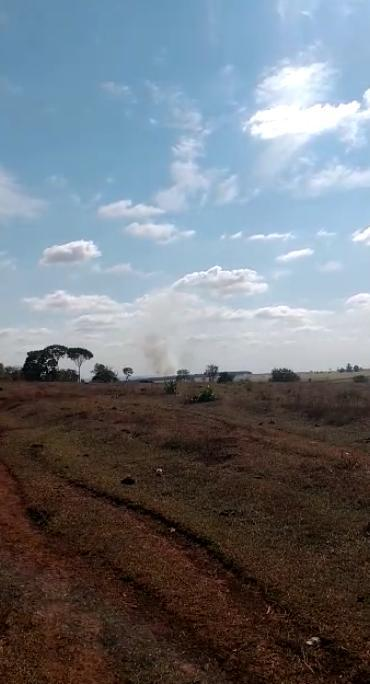Smoke: (154, 326, 182, 386)
